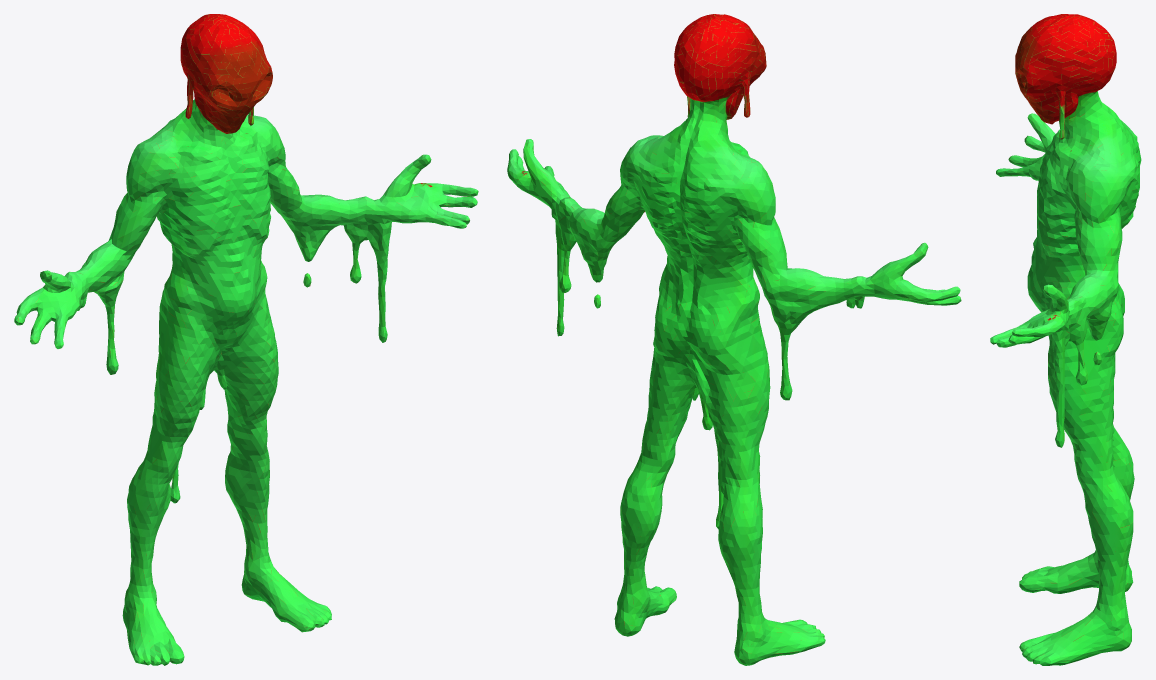
Rendered from trap-glue.glb.
3 views of the same model, side by side, from view 1: azimuth 30°, elevation 25°; view 2: azimuth 150°, elevation 25°; view 3: azimuth 270°, elevation 25° (orthographic).
Size of the model in its own units: 1.55 by 2 by 0.4517.
Materials: 1 (1 with a texture image).
